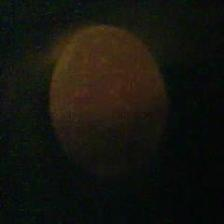fertile: (47, 24, 166, 172)
